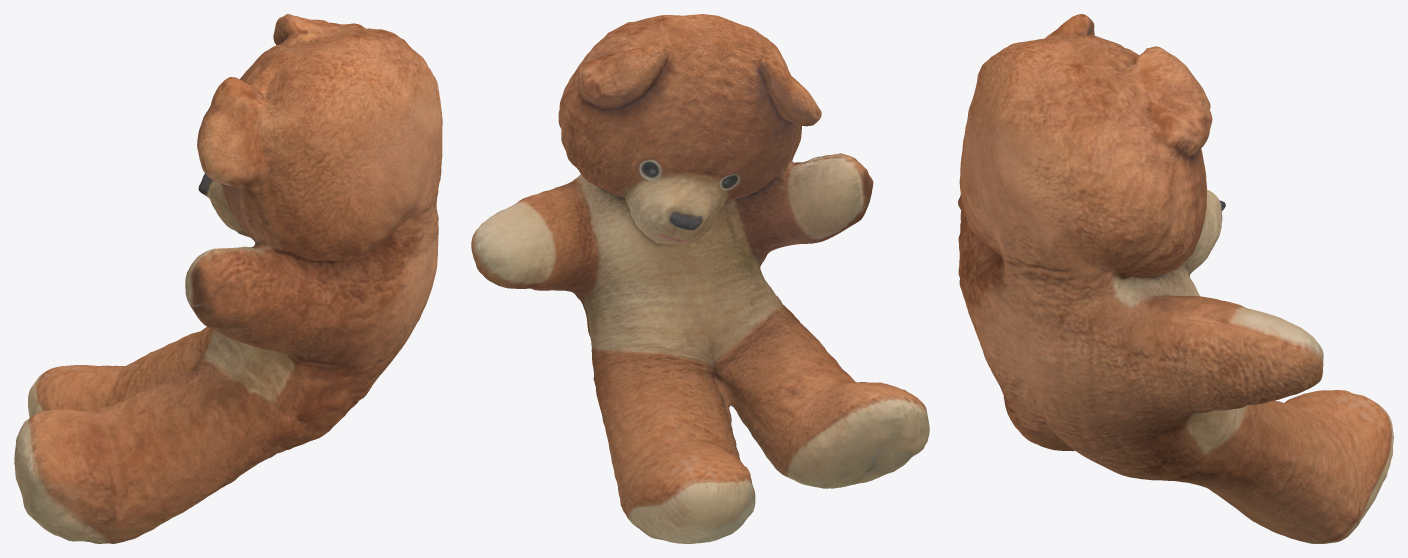
The model's file is teddy_bear.glb.
3 renders of one model, left to right at view 1: azimuth 30°, elevation 25°; view 2: azimuth 150°, elevation 25°; view 3: azimuth 270°, elevation 25°, orthographic. The views are drawn at different scales.
Parts seen in each view (by area): view 1: Model; view 2: Model; view 3: Model.
Part boxes in pixels (x1=…): Model: x1=14, y1=14, x2=442, y2=543; Model: x1=471, y1=14, x2=929, y2=543; Model: x1=958, y1=14, x2=1393, y2=543.
Bounding box in the file's own units: 4.16 × 4.48 × 3.28.
2 materials, 2 textured.
